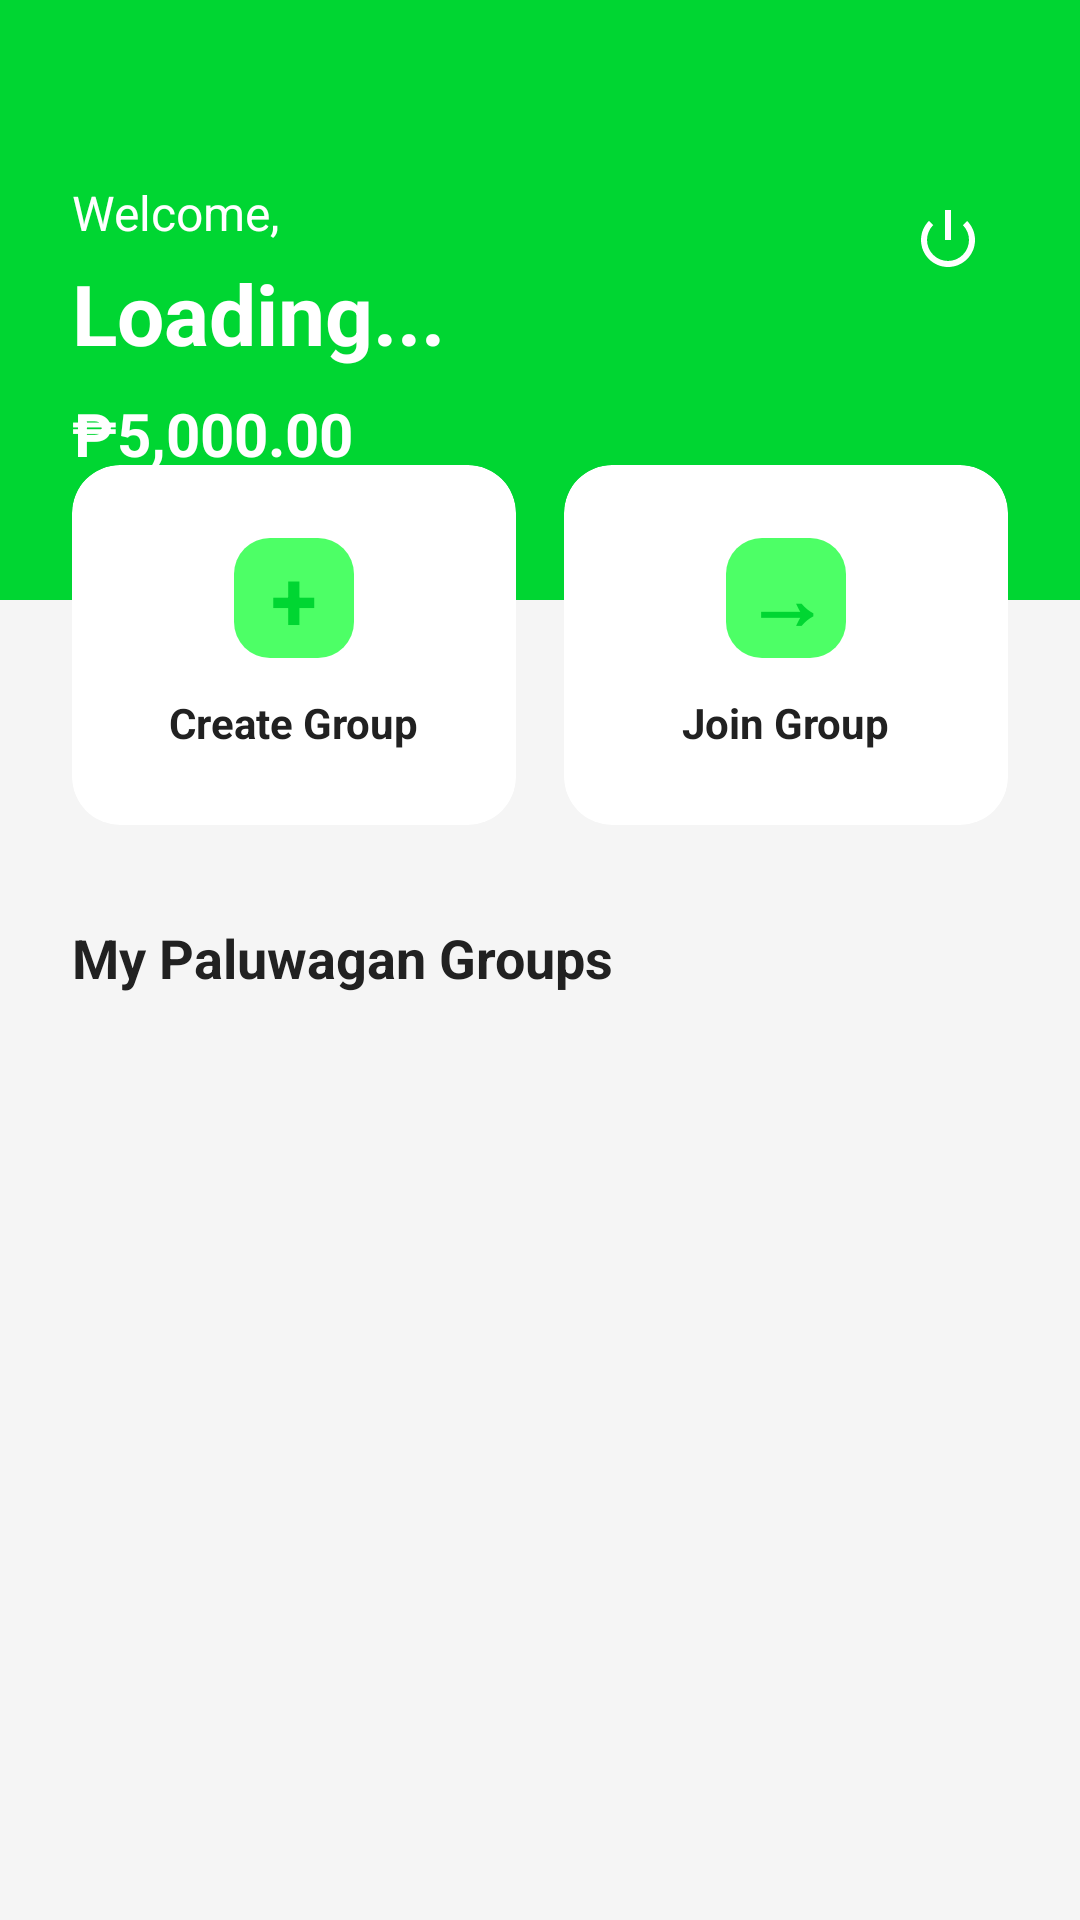

Icons on this 1080w x 1920h Android screen, each with its box as (x1, y1, x2, y2):
lock power off: (921, 210, 975, 267)
